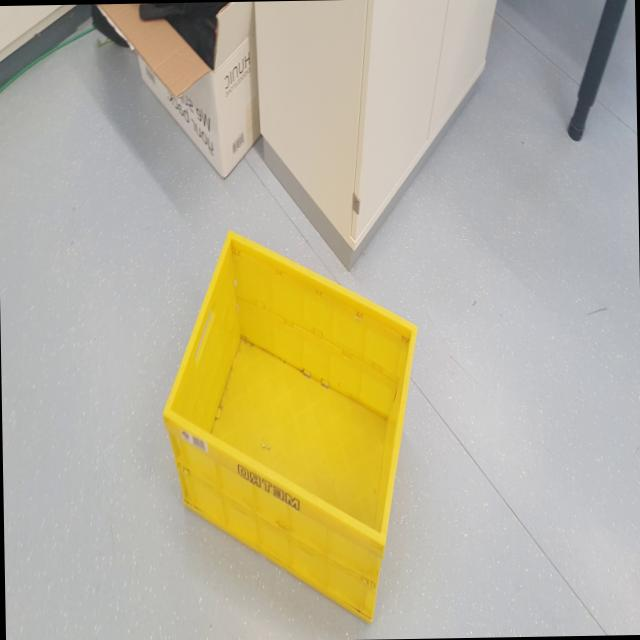box: (150, 221, 436, 634)
